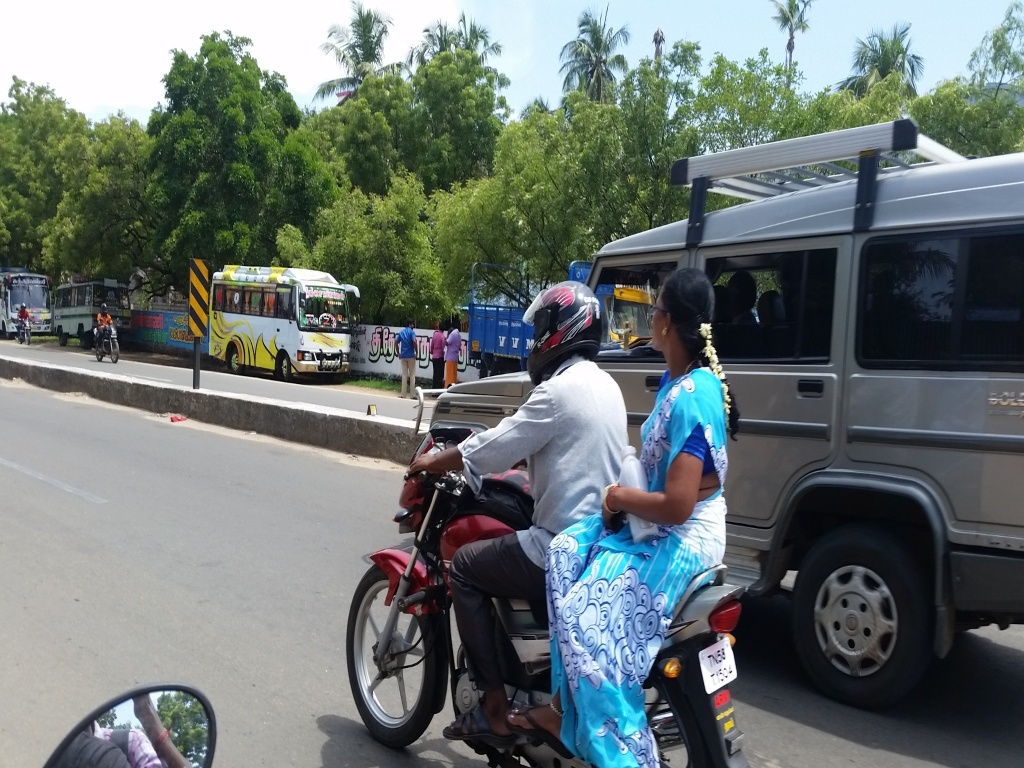biker: (305, 226, 787, 768)
helmet: (512, 266, 610, 390)
nohelmet: (641, 258, 730, 382)
